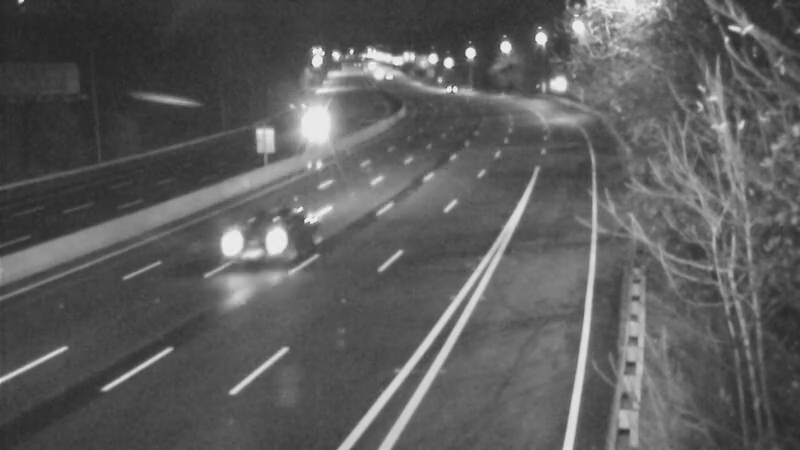vehicle: (224, 194, 304, 274), (414, 62, 464, 112), (290, 103, 340, 153)
